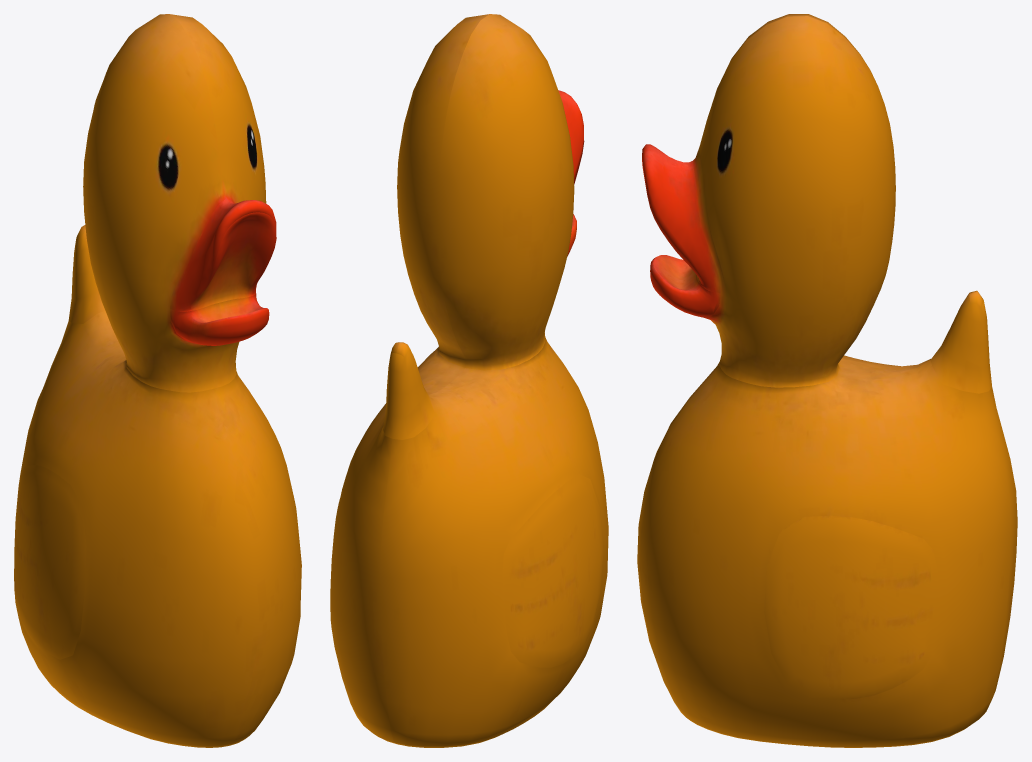
The model's file is rubber_duck.glb.
The picture shows the model from 3 angles, left to right: view 1: azimuth 30°, elevation 25°; view 2: azimuth 150°, elevation 25°; view 3: azimuth 270°, elevation 25°; orthographic projection. The views are drawn at different scales.
Visible parts, largest first — view 1: rubber_duck_toy.001; view 2: rubber_duck_toy.001; view 3: rubber_duck_toy.001.
Part boxes in pixels (x1,y1,x2,y2): rubber_duck_toy.001: [14, 14, 301, 747]; rubber_duck_toy.001: [330, 14, 608, 747]; rubber_duck_toy.001: [637, 14, 1017, 747].
Size of the model in its own units: 1.63 by 4.64 by 2.29.
1 material, 1 textured.
